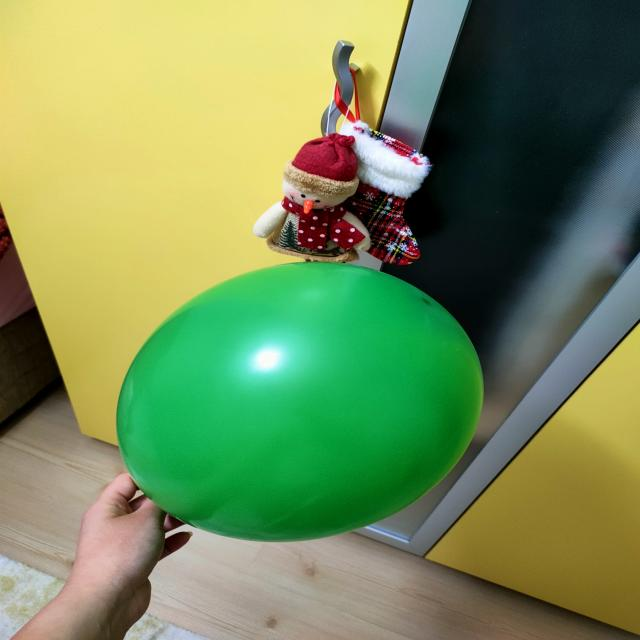green: (117, 260, 480, 543)
